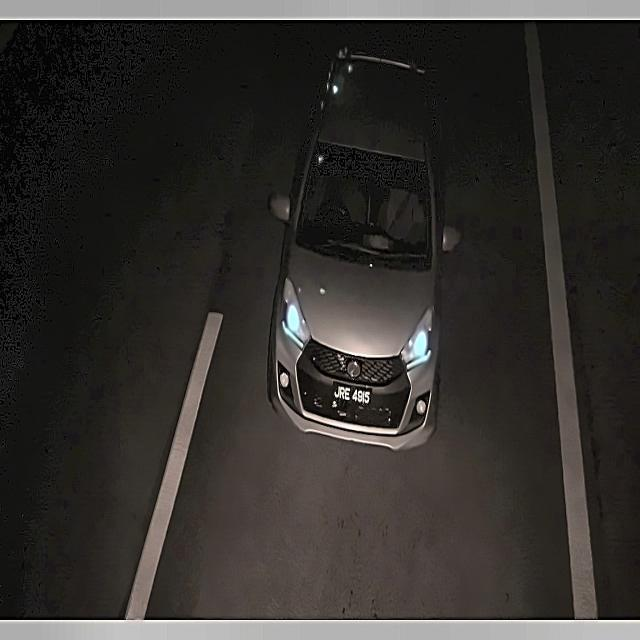car: (328, 375, 376, 411)
